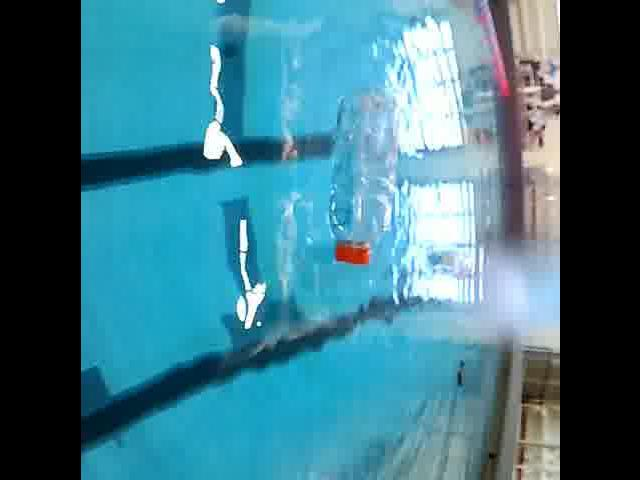Bottle: (320, 86, 406, 270)
